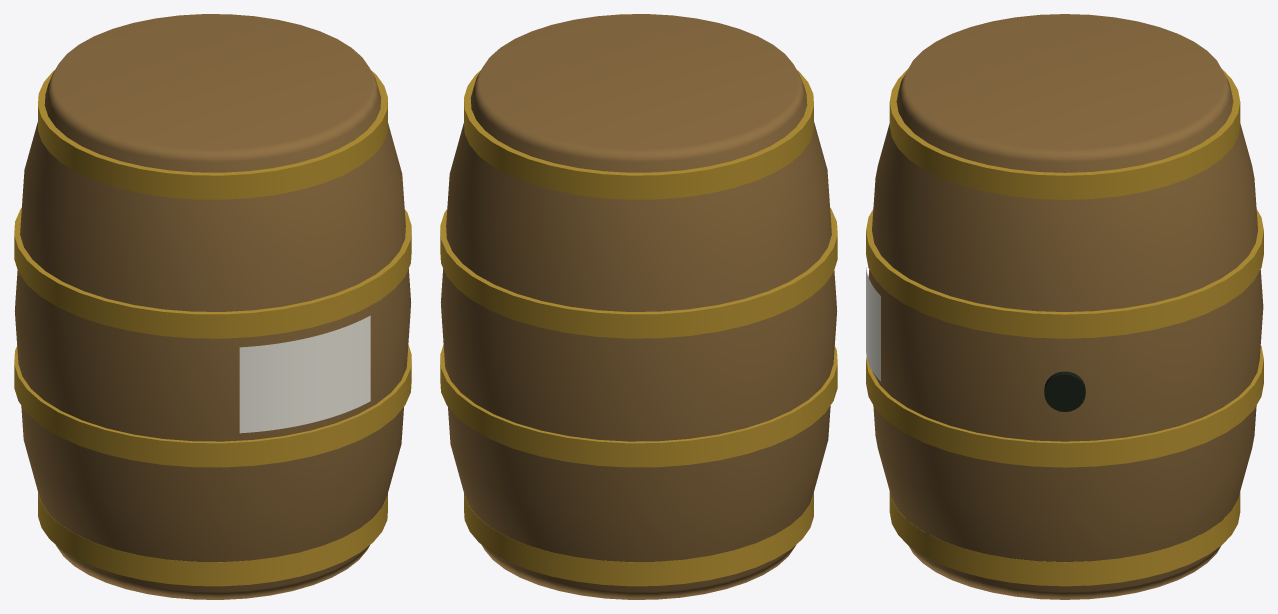
File: oak-barrel.glb
The picture shows the model from 3 angles, left to right: view 1: azimuth 30°, elevation 25°; view 2: azimuth 150°, elevation 25°; view 3: azimuth 270°, elevation 25°; orthographic projection.
Visible parts, largest first — view 1: staves, hoop_3, barrel_brand_slot, hoop_2, hoop_4, hoop_1; view 2: staves, hoop_3, hoop_2, hoop_4, hoop_1; view 3: staves, hoop_3, hoop_2, hoop_4, hoop_1, bung, barrel_brand_slot.
Part boxes in pixels (x1,y1,x2,y2): staves: (14,14,411,599); hoop_3: (14,207,411,338); barrel_brand_slot: (239,315,370,433); hoop_2: (14,344,411,467); hoop_4: (38,70,387,199); hoop_1: (38,492,387,586); staves: (440,14,837,599); hoop_3: (440,207,837,338); hoop_2: (440,344,837,467); hoop_4: (464,70,813,199); hoop_1: (464,492,813,586); staves: (868,14,1263,599); hoop_3: (866,209,1263,338); hoop_2: (866,345,1263,467); hoop_4: (889,69,1240,199); hoop_1: (889,492,1240,586); bung: (1044,371,1085,411); barrel_brand_slot: (866,267,880,381).
Bounding box in the file's own units: 0.681 × 0.84 × 0.672.
